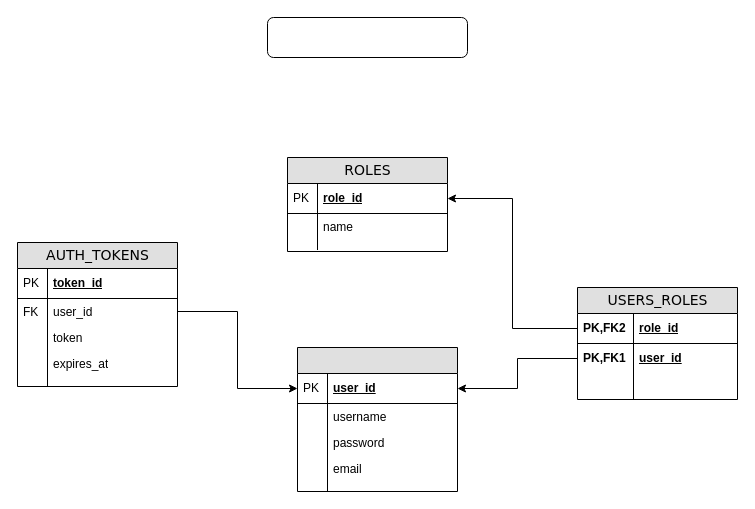
Image size: 755x509. Some labels were removed from this diagram. Here are the shapes that lost their labels. From the top down, the box of each, then its label:
(266, 16, 468, 58): ERD AVANCE INGENIEROS
(296, 346, 458, 492): USERS
